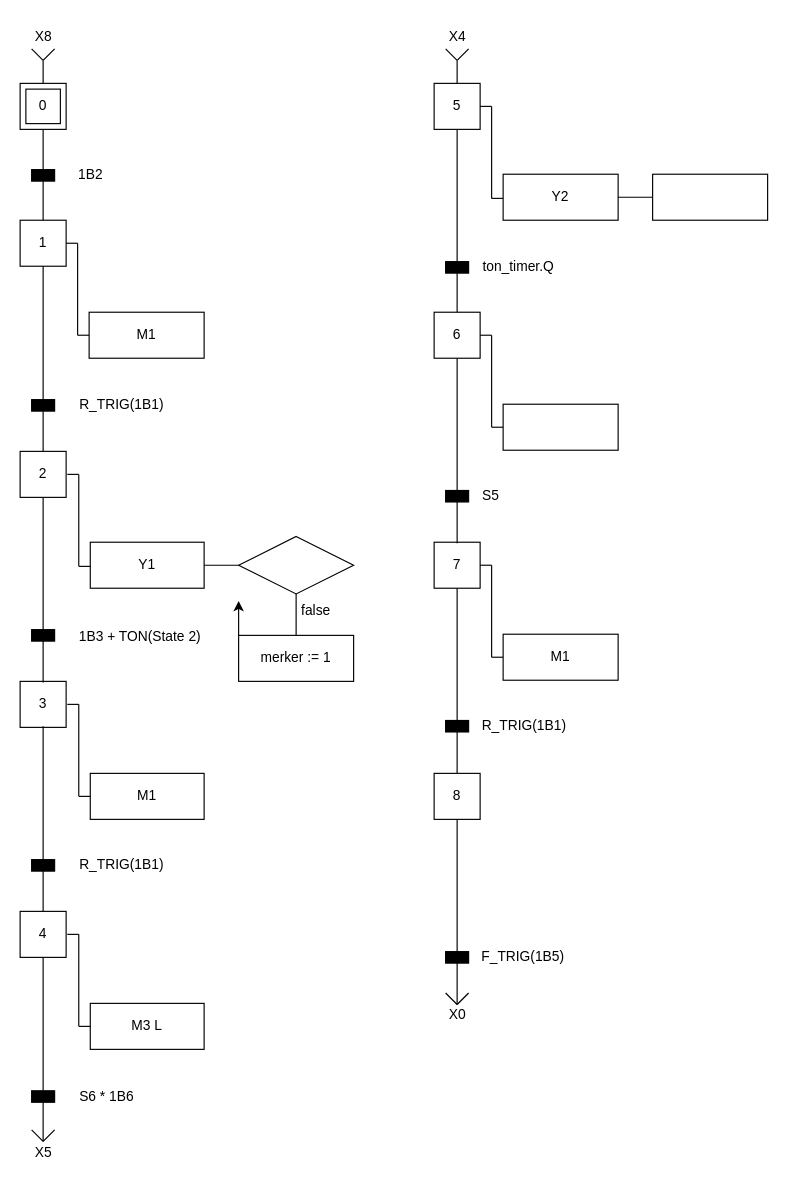
Image size: 788x1189. Some labels were removed from this diagram. The centre of each missing label's shape, as x and y in pixels:
"M2" goes at [709,196].
"M3 R" goes at [560,426].
"R_TRIG 1B4" goes at [295,564].
